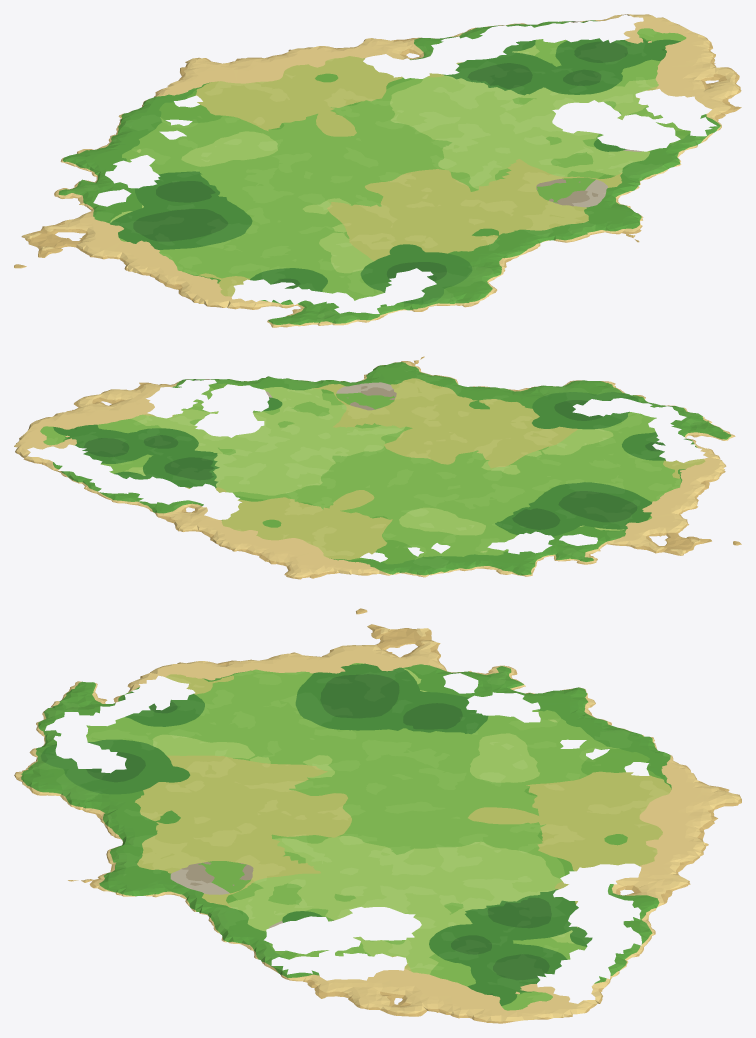
Rendered from Isl-start3-Ground.fbx.
3 views of the same model, one above another, from view 1: azimuth 30°, elevation 25°; view 2: azimuth 150°, elevation 25°; view 3: azimuth 270°, elevation 25° (orthographic). The views are drawn at different scales.
Parts seen in each view (by area): view 1: Isl-start3-Ground-c11, Isl-start3-Ground-c12, Isl-start3-Ground-c22, Isl-start3-Ground-c21, Isl-start3-Ground-c32, Isl-start3-Ground-c01, Isl-start3-Ground-c31, Isl-start3-Ground-c02, Isl-start3-Ground-c10; view 2: Isl-start3-Ground-c11, Isl-start3-Ground-c12, Isl-start3-Ground-c22, Isl-start3-Ground-c21, Isl-start3-Ground-c32, Isl-start3-Ground-c01, Isl-start3-Ground-c31, Isl-start3-Ground-c02, Isl-start3-Ground-c10; view 3: Isl-start3-Ground-c11, Isl-start3-Ground-c22, Isl-start3-Ground-c12, Isl-start3-Ground-c21, Isl-start3-Ground-c32, Isl-start3-Ground-c01, Isl-start3-Ground-c31, Isl-start3-Ground-c02, Isl-start3-Ground-c10.
Part boxes in pixels (x1,y1,x2,y2): Isl-start3-Ground-c11: [111, 158, 517, 327]; Isl-start3-Ground-c12: [58, 57, 385, 224]; Isl-start3-Ground-c22: [246, 21, 653, 158]; Isl-start3-Ground-c21: [386, 97, 712, 257]; Isl-start3-Ground-c32: [559, 14, 737, 90]; Isl-start3-Ground-c01: [14, 224, 222, 307]; Isl-start3-Ground-c31: [661, 74, 741, 134]; Isl-start3-Ground-c02: [21, 190, 116, 246]; Isl-start3-Ground-c10: [345, 286, 497, 324]; Isl-start3-Ground-c11: [390, 381, 735, 528]; Isl-start3-Ground-c12: [268, 470, 625, 579]; Isl-start3-Ground-c22: [67, 414, 389, 561]; Isl-start3-Ground-c21: [172, 356, 500, 469]; Isl-start3-Ground-c32: [14, 397, 150, 477]; Isl-start3-Ground-c01: [628, 460, 741, 546]; Isl-start3-Ground-c31: [85, 379, 198, 411]; Isl-start3-Ground-c02: [583, 527, 694, 564]; Isl-start3-Ground-c10: [568, 380, 686, 410]; Isl-start3-Ground-c11: [38, 666, 399, 821]; Isl-start3-Ground-c22: [396, 817, 714, 970]; Isl-start3-Ground-c12: [396, 666, 741, 821]; Isl-start3-Ground-c21: [68, 817, 399, 970]; Isl-start3-Ground-c32: [395, 966, 619, 1023]; Isl-start3-Ground-c01: [156, 608, 399, 670]; Isl-start3-Ground-c31: [274, 968, 399, 1015]; Isl-start3-Ground-c02: [396, 628, 515, 672]; Isl-start3-Ground-c10: [14, 712, 46, 795].
Size of the model in its own units: 126 by 0.4896 by 93.29.
